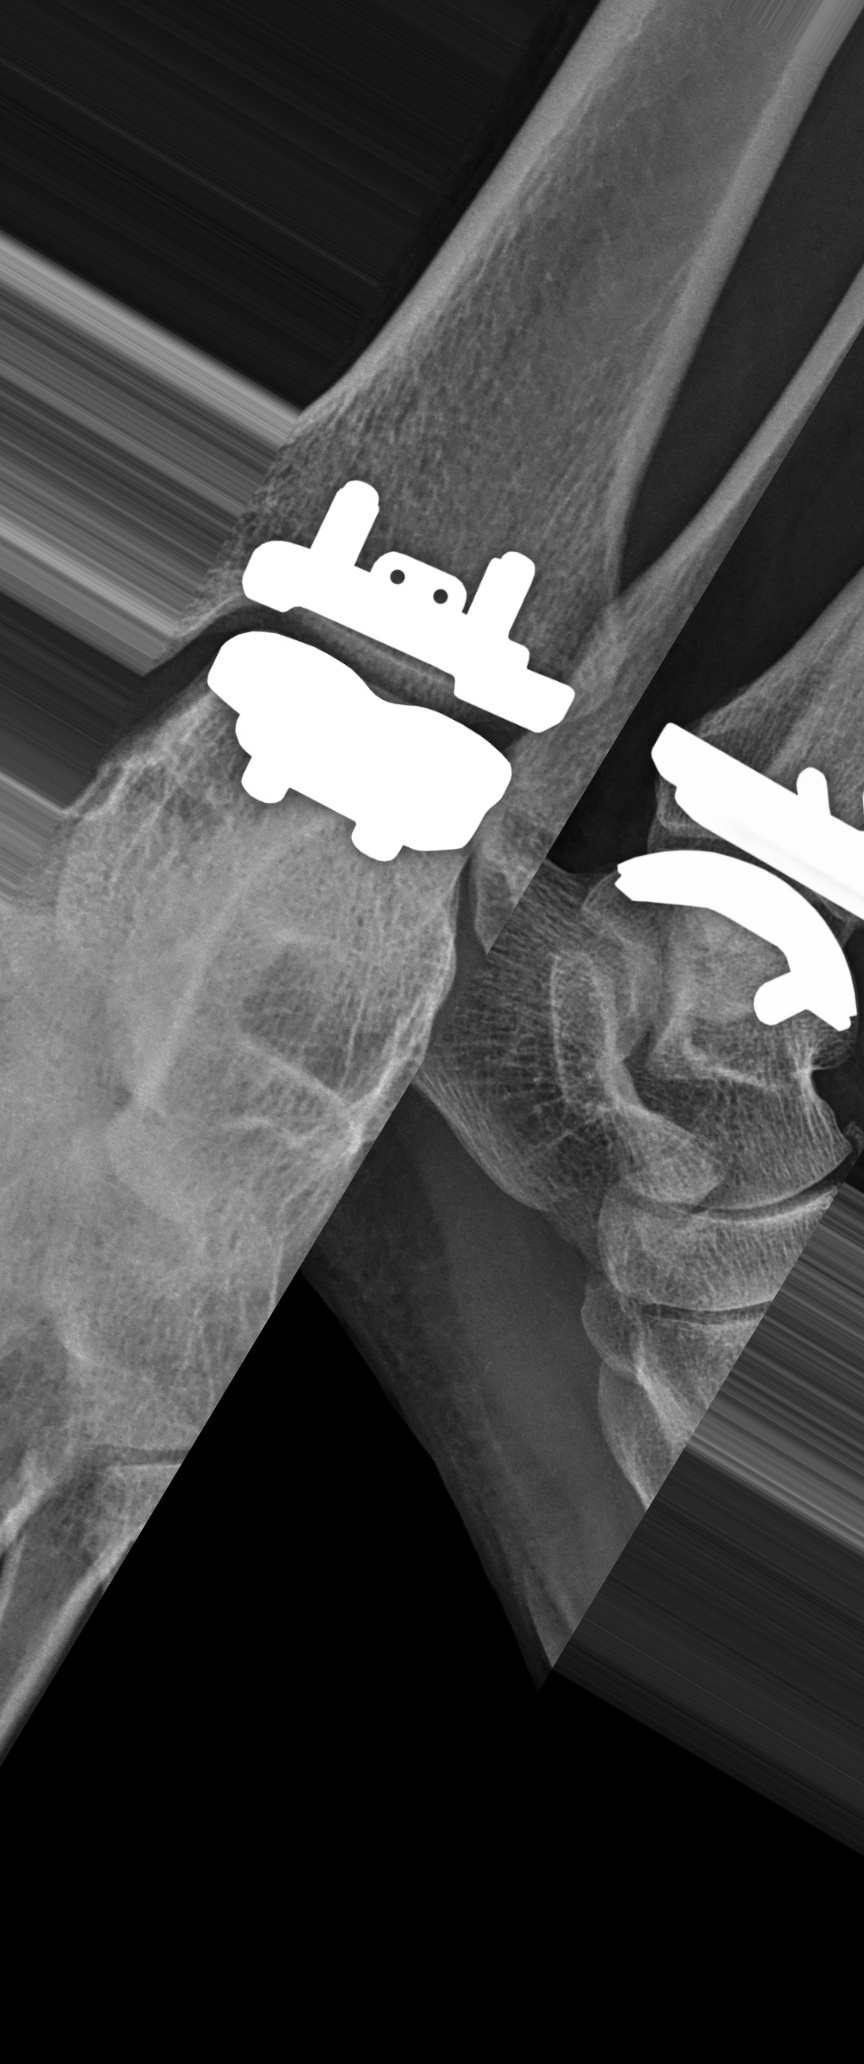Cadence-Integra: (194, 469, 581, 875), (608, 673, 861, 1085)
